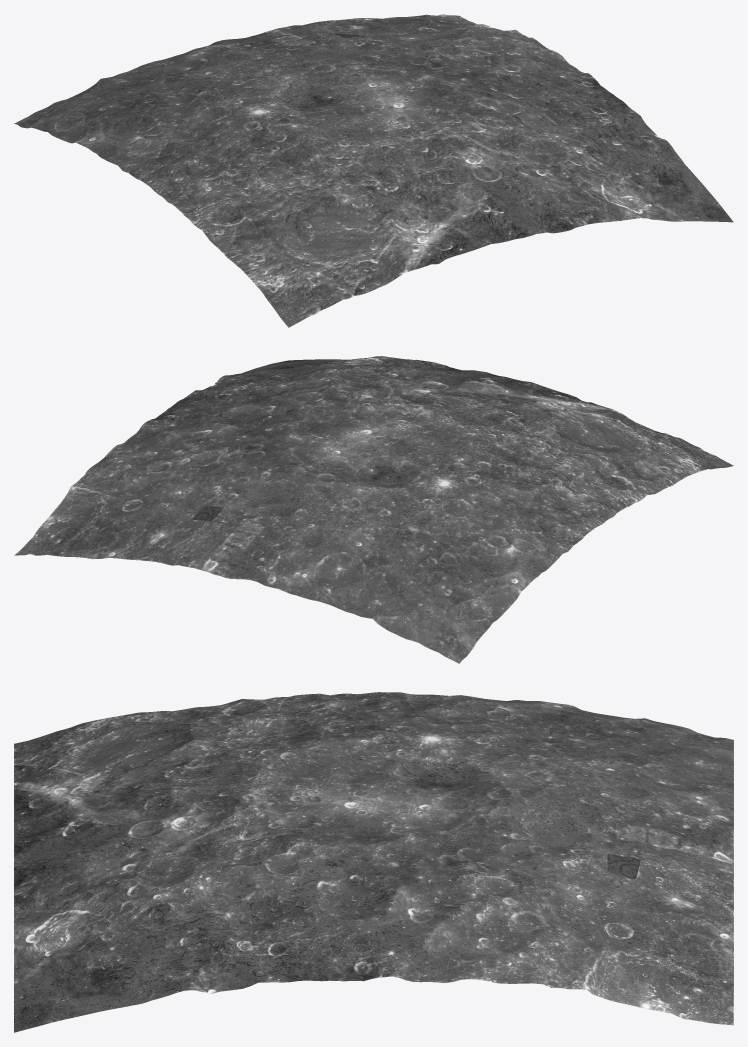
The model's file is moon5.glb.
The picture shows the model from 3 angles, top to bottom: view 1: azimuth 30°, elevation 25°; view 2: azimuth 150°, elevation 25°; view 3: azimuth 270°, elevation 25°; orthographic projection. The views are drawn at different scales.
Visible parts, largest first — view 1: GagarinLP_1 - _0; view 2: GagarinLP_1 - _0; view 3: GagarinLP_1 - _0.
Boxes of the visible parts, bbox=[...] form: GagarinLP_1 - _0: bbox=[14, 14, 733, 327]; GagarinLP_1 - _0: bbox=[14, 356, 733, 663]; GagarinLP_1 - _0: bbox=[14, 692, 733, 1032].
Bounding box in the file's own units: 370 × 58.9 × 396.
Materials: 1 (1 with a texture image).
